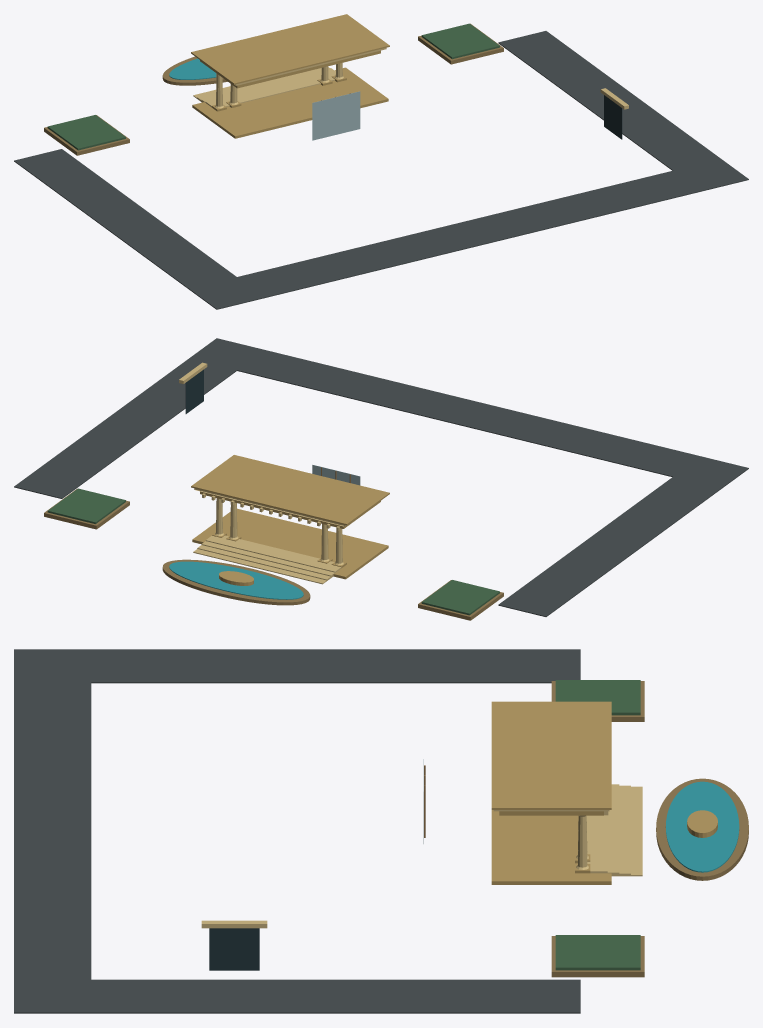
The model's file is KOL_T1_ROYAL__06_Arrival.fbx.
3 views of the same model, one above another, from view 1: azimuth 30°, elevation 25°; view 2: azimuth 150°, elevation 25°; view 3: azimuth 270°, elevation 25° (orthographic). The views are drawn at different scales.
Visible parts, largest first — view 1: KOL_T1_ROYAL__06_Arrival__KOL_T1_Asphalt, KOL_T1_ROYAL__06_Arrival__KOL_T1_RoyalOchre, KOL_T1_ROYAL__06_Arrival__KOL_T1_Leaf, KOL_T1_ROYAL__06_Arrival__KOL_T1_RoyalTrim, KOL_T1_ROYAL__06_Arrival__KOL_T1_GlassLight, KOL_T1_ROYAL__06_Arrival__KOL_T1_RoyalStone, KOL_T1_ROYAL__06_Arrival__KOL_T1_Water, KOL_T1_ROYAL__06_Arrival__KOL_T1_Graphite; view 2: KOL_T1_ROYAL__06_Arrival__KOL_T1_Asphalt, KOL_T1_ROYAL__06_Arrival__KOL_T1_RoyalOchre, KOL_T1_ROYAL__06_Arrival__KOL_T1_RoyalTrim, KOL_T1_ROYAL__06_Arrival__KOL_T1_Leaf, KOL_T1_ROYAL__06_Arrival__KOL_T1_RoyalStone, KOL_T1_ROYAL__06_Arrival__KOL_T1_Water, KOL_T1_ROYAL__06_Arrival__KOL_T1_Graphite; view 3: KOL_T1_ROYAL__06_Arrival__KOL_T1_Asphalt, KOL_T1_ROYAL__06_Arrival__KOL_T1_RoyalOchre, KOL_T1_ROYAL__06_Arrival__KOL_T1_RoyalTrim, KOL_T1_ROYAL__06_Arrival__KOL_T1_Leaf, KOL_T1_ROYAL__06_Arrival__KOL_T1_Water, KOL_T1_ROYAL__06_Arrival__KOL_T1_RoyalStone, KOL_T1_ROYAL__06_Arrival__KOL_T1_Graphite.
Part boxes in pixels (x1,y1,x2,y2): KOL_T1_ROYAL__06_Arrival__KOL_T1_Asphalt: (14,31,748,309); KOL_T1_ROYAL__06_Arrival__KOL_T1_RoyalOchre: (191,14,389,138); KOL_T1_ROYAL__06_Arrival__KOL_T1_Leaf: (47,23,499,150); KOL_T1_ROYAL__06_Arrival__KOL_T1_RoyalTrim: (193,47,628,109); KOL_T1_ROYAL__06_Arrival__KOL_T1_GlassLight: (312,91,360,140); KOL_T1_ROYAL__06_Arrival__KOL_T1_RoyalStone: (44,23,503,155); KOL_T1_ROYAL__06_Arrival__KOL_T1_Water: (169,58,216,79); KOL_T1_ROYAL__06_Arrival__KOL_T1_Graphite: (604,95,622,139); KOL_T1_ROYAL__06_Arrival__KOL_T1_Asphalt: (14,338,748,616); KOL_T1_ROYAL__06_Arrival__KOL_T1_RoyalOchre: (191,455,389,585); KOL_T1_ROYAL__06_Arrival__KOL_T1_RoyalTrim: (179,362,346,584); KOL_T1_ROYAL__06_Arrival__KOL_T1_Leaf: (47,488,499,615); KOL_T1_ROYAL__06_Arrival__KOL_T1_RoyalStone: (44,488,503,620); KOL_T1_ROYAL__06_Arrival__KOL_T1_Water: (169,561,303,599); KOL_T1_ROYAL__06_Arrival__KOL_T1_Graphite: (185,369,203,413); KOL_T1_ROYAL__06_Arrival__KOL_T1_Asphalt: (14,649,580,1013); KOL_T1_ROYAL__06_Arrival__KOL_T1_RoyalOchre: (491,701,717,884); KOL_T1_ROYAL__06_Arrival__KOL_T1_RoyalTrim: (201,784,642,928); KOL_T1_ROYAL__06_Arrival__KOL_T1_Leaf: (555,680,640,970); KOL_T1_ROYAL__06_Arrival__KOL_T1_Water: (665,781,739,872); KOL_T1_ROYAL__06_Arrival__KOL_T1_RoyalStone: (551,681,748,977); KOL_T1_ROYAL__06_Arrival__KOL_T1_Graphite: (209,928,259,970).
Size of the model in its own units: 222 by 22.18 by 190.
